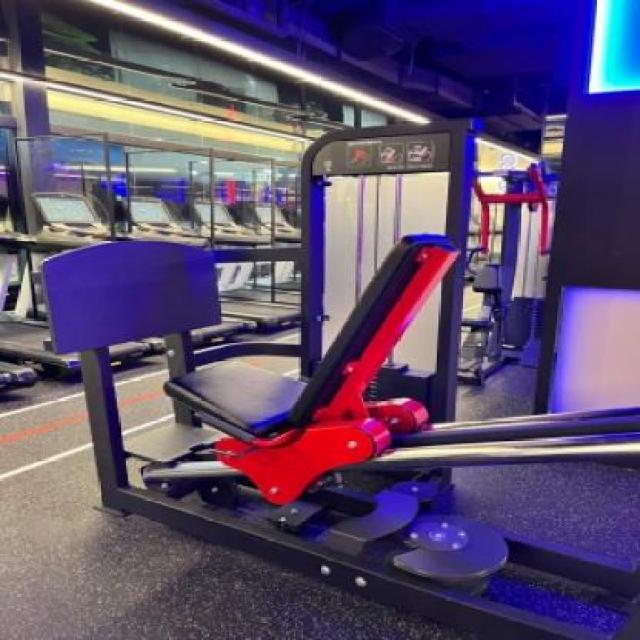leg press: (35, 107, 639, 640)
